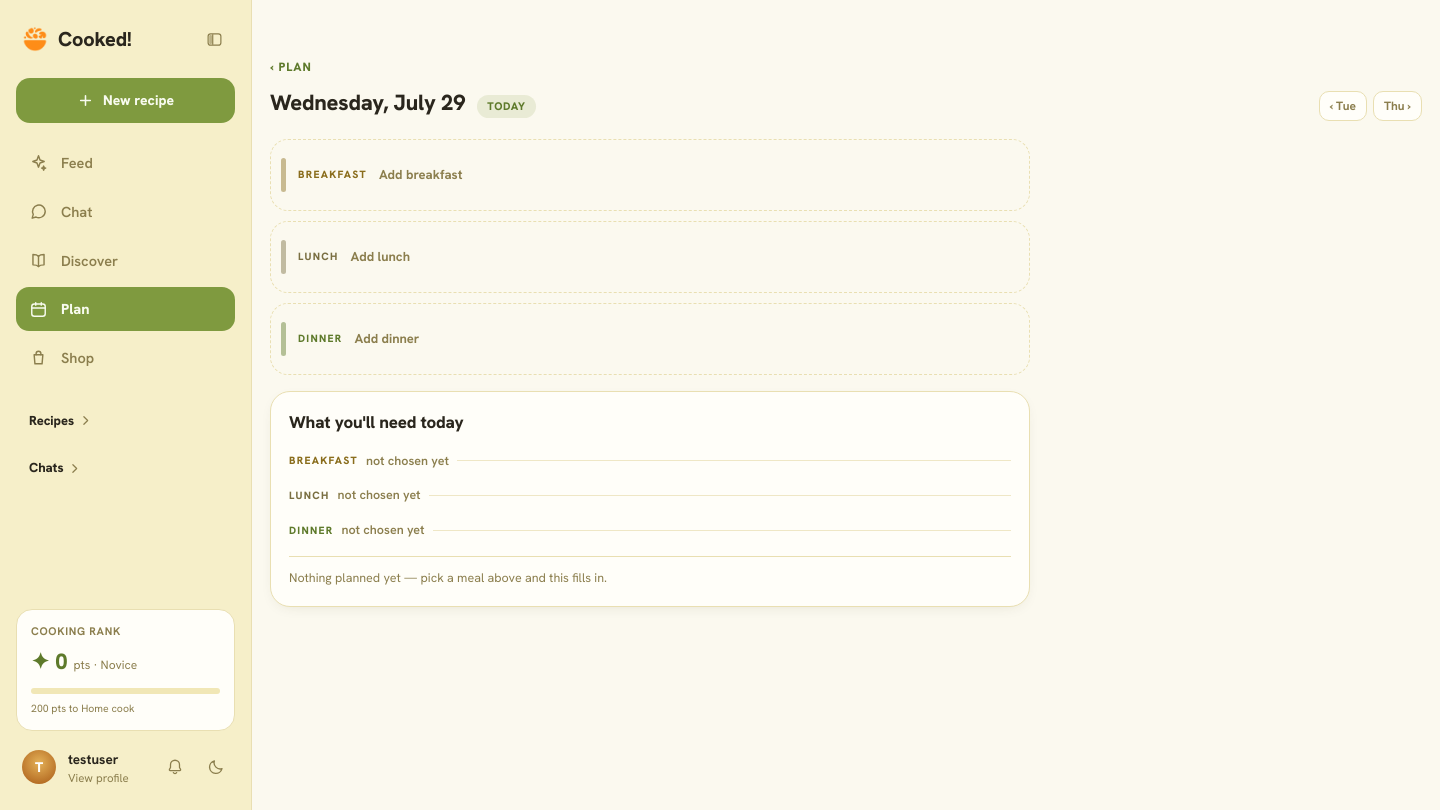
Test: the recipe picker › heads itself with the slot that was tapped
The width and height of the screenshot is (1440, 810).
Click the button with aria-label "add a recipe for dinner". click: (320, 338)
box: [270, 303, 1030, 375]
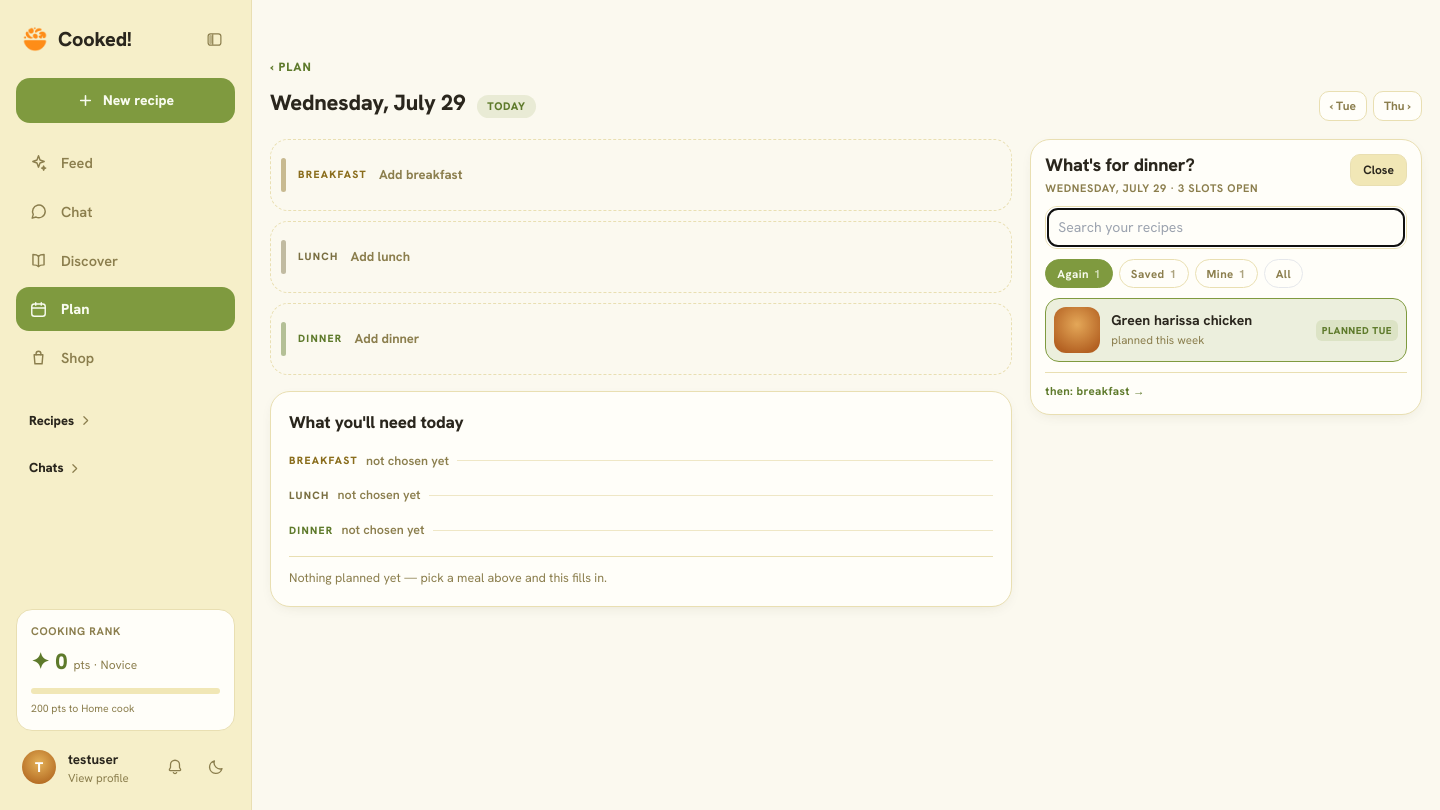
Expected: the heading "What's for dinner?" is shown, [1045, 153, 1194, 176]
Expected: the text "Wednesday, July 29 · 3 slots open" is shown, [1045, 181, 1258, 195]
